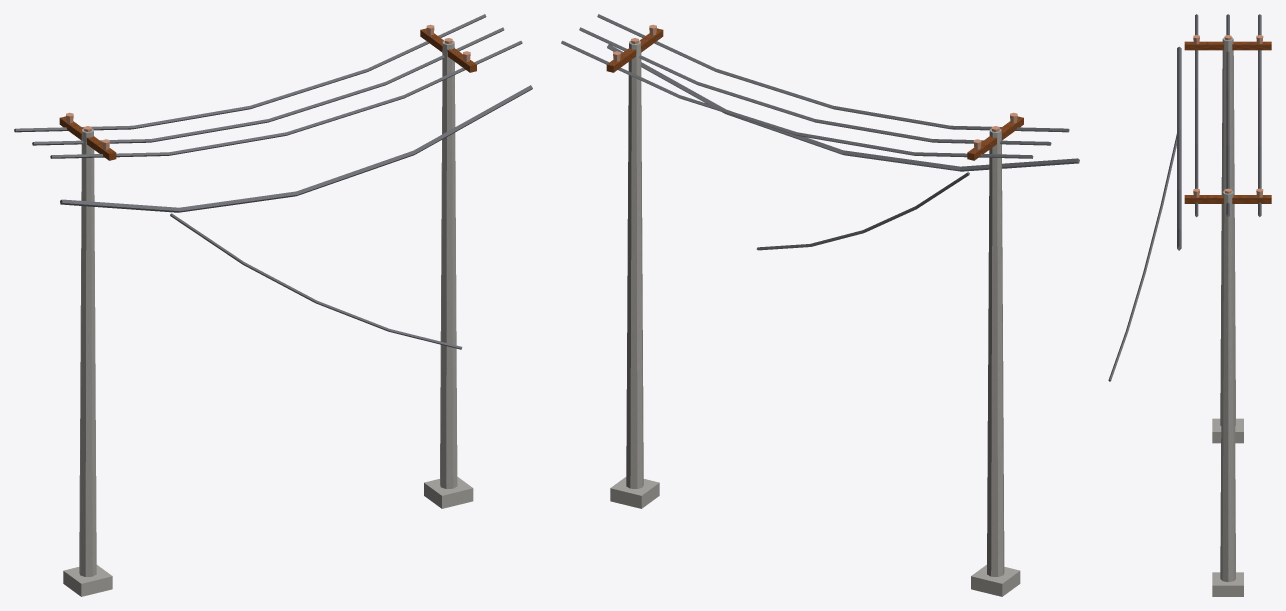
Rendered from overhead-cables.glb.
3 renders of one model, left to right at view 1: azimuth 30°, elevation 25°; view 2: azimuth 150°, elevation 25°; view 3: azimuth 270°, elevation 25°, orthographic. The views are drawn at different scales.
Visible parts, largest first — view 1: overhead-cable-span-stone, overhead-cable-span-charcoal, overhead-cable-span-timber; view 2: overhead-cable-span-stone, overhead-cable-span-charcoal, overhead-cable-span-timber; view 3: overhead-cable-span-stone, overhead-cable-span-charcoal, overhead-cable-span-timber, overhead-cable-span-terracotta.
Part boxes in pixels (left/top/right/bottom): overhead-cable-span-stone: left=63, top=40, right=473, bottom=596; overhead-cable-span-charcoal: left=14, top=14, right=532, bottom=349; overhead-cable-span-timber: left=59, top=28, right=476, bottom=160; overhead-cable-span-stone: left=610, top=40, right=1020, bottom=596; overhead-cable-span-charcoal: left=561, top=14, right=1079, bottom=250; overhead-cable-span-timber: left=606, top=28, right=1023, bottom=160; overhead-cable-span-stone: left=1212, top=37, right=1243, bottom=596; overhead-cable-span-charcoal: left=1108, top=14, right=1261, bottom=381; overhead-cable-span-timber: left=1184, top=41, right=1271, bottom=203; overhead-cable-span-terracotta: left=1193, top=35, right=1263, bottom=197.
Size of the model in its own units: 6.02 by 5.59 by 2.07.
4 materials, 2 textured.
